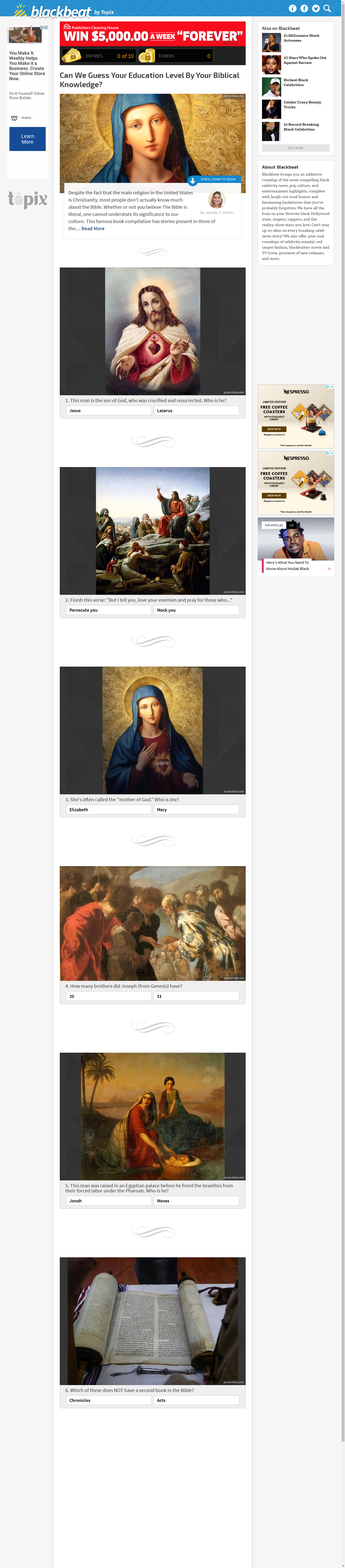fake_button: (7, 126, 53, 157)
